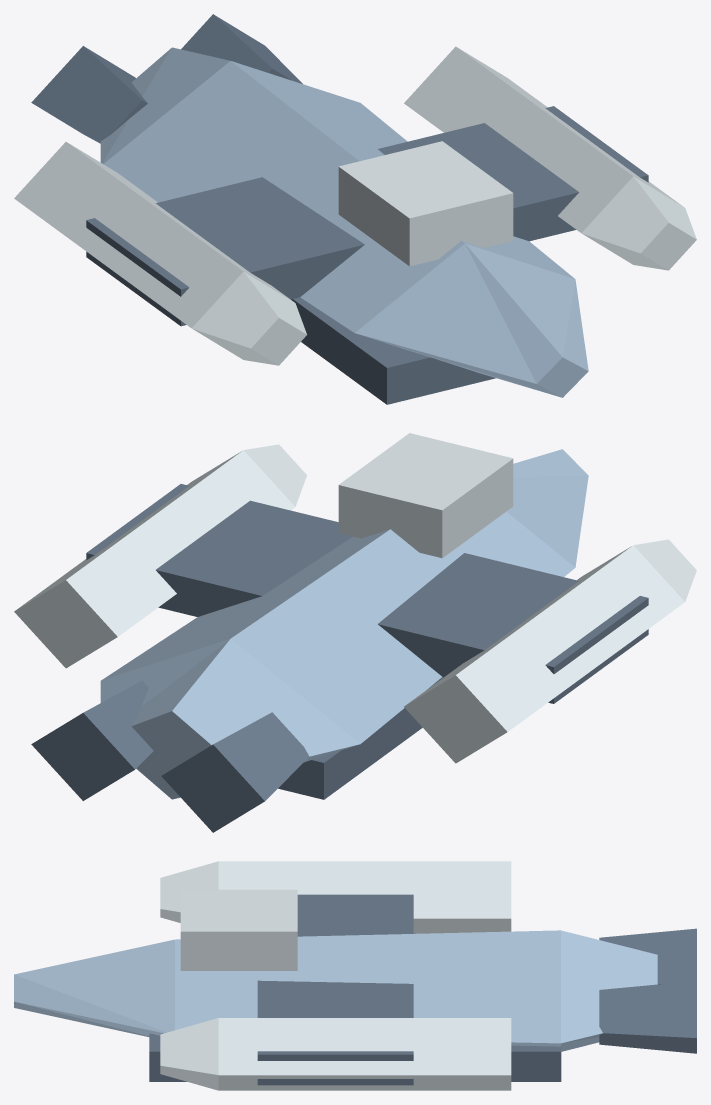
3 renders of one model, top to bottom at view 1: azimuth 30°, elevation 25°; view 2: azimuth 150°, elevation 25°; view 3: azimuth 270°, elevation 25°, orthographic. The views are drawn at different scales.
Size of the model in its own units: 5.15 by 1.71 by 7.49.
